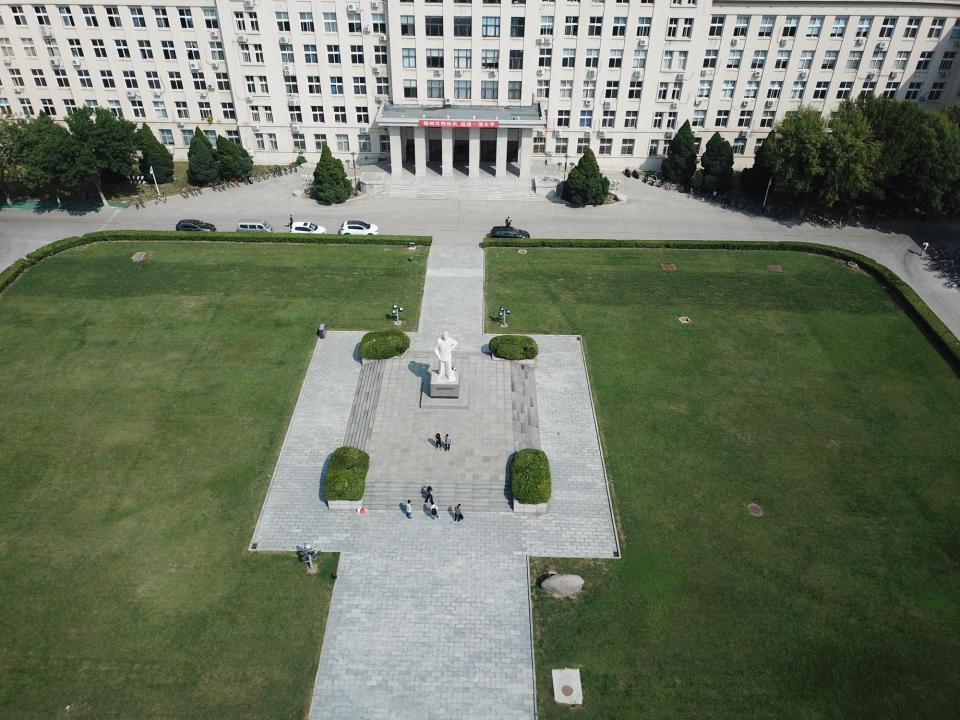car: (340, 219, 380, 238), (176, 219, 216, 236), (289, 221, 327, 238), (490, 226, 530, 241)
van: (237, 218, 274, 236)
